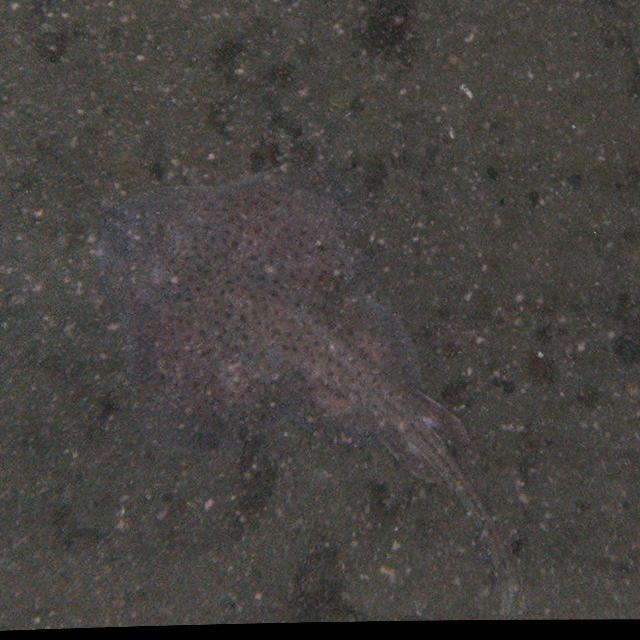skate: (95, 160, 526, 615)
